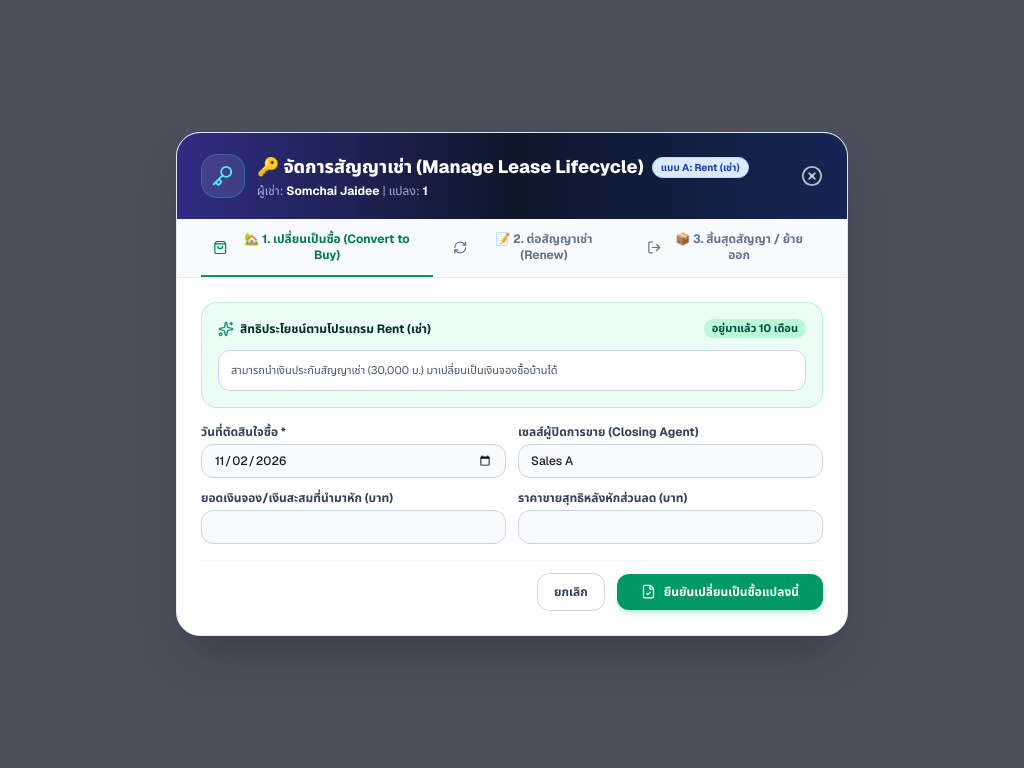
Test case: Rental Parity and Synchronization Defect Tests › Issue A: Notes Retention and Idempotence › Finding E: stops and does not overwrite notes when reading fresh notes from database fails on renew
Expected: the button "ยืนยันเปลี่ยนเป็นซื้อแปลงนี้" is enabled, [617, 574, 823, 610]
Click the button "📝 2. ต่อสัญญาเช่า (Renew)" at {"x": 534, "y": 254}, box [441, 231, 627, 277]
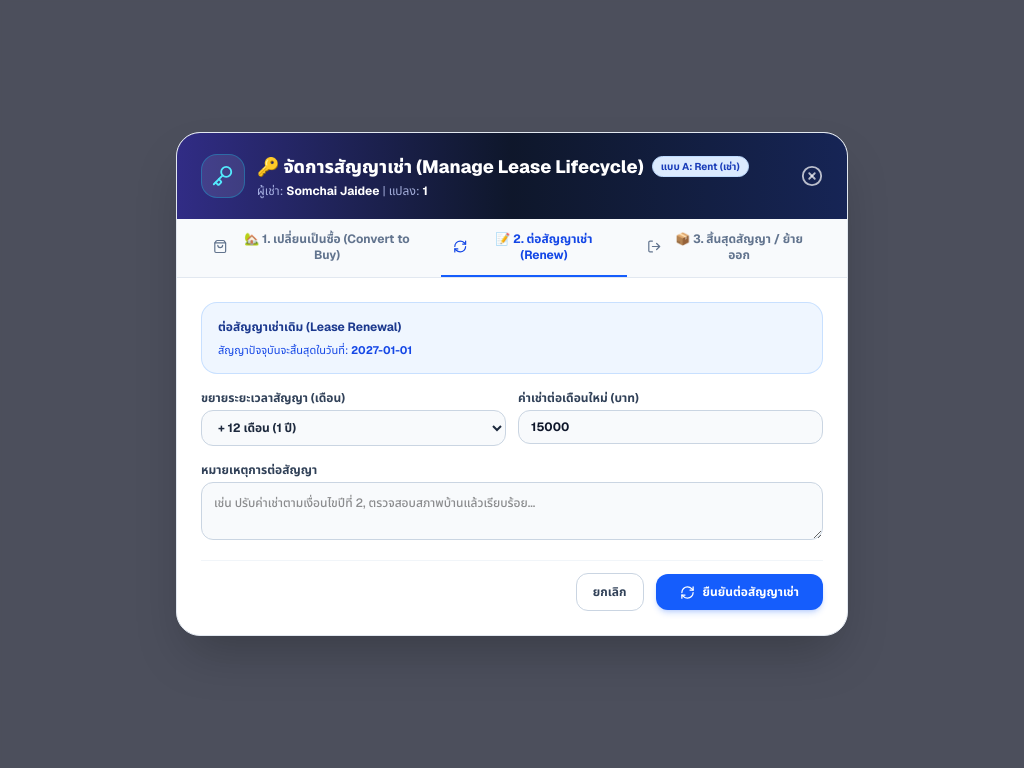
Submit the form named "ยืนยันต่อสัญญาเช่า", box [201, 302, 823, 611]
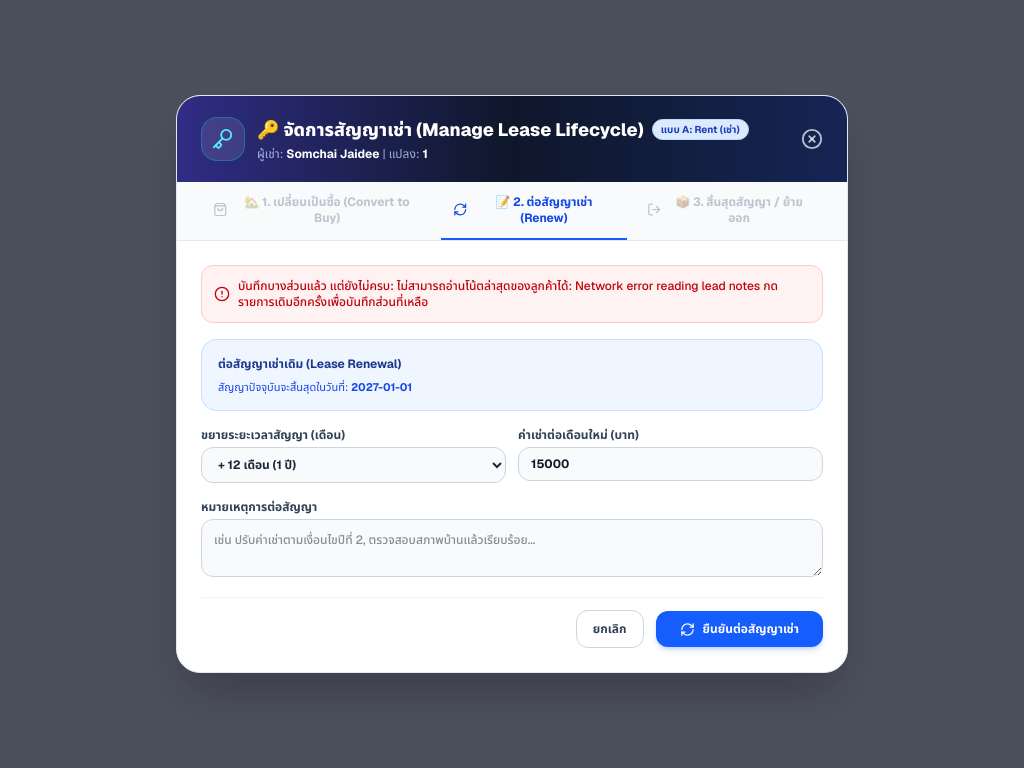
Expected: the text "ไม่สามารถอ่านโน้ตล่าสุดของลูกค้าได้" is shown, [238, 278, 778, 310]
